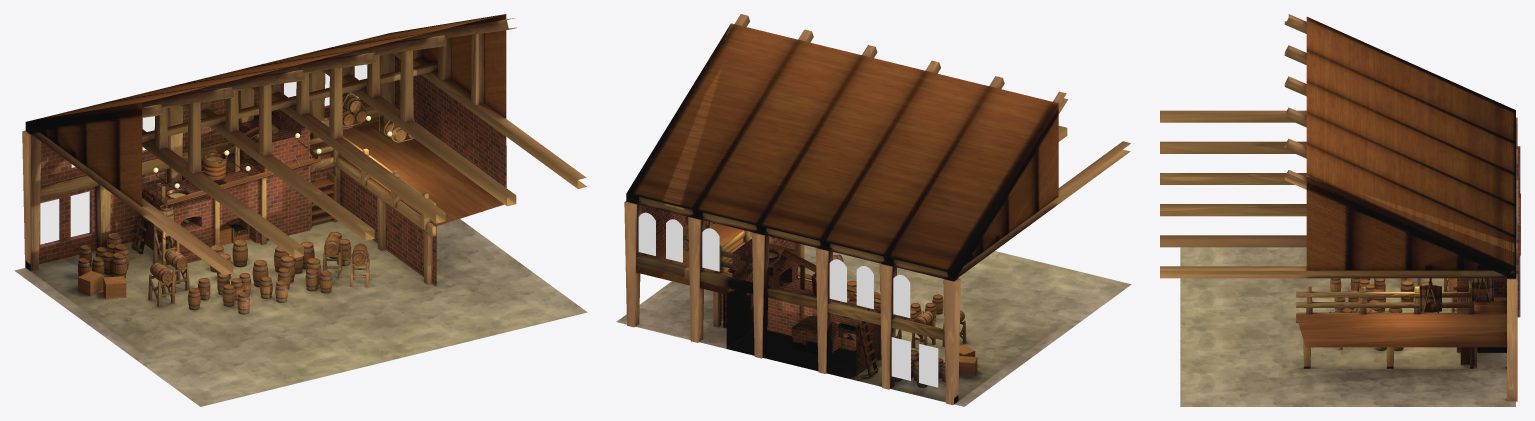
Rendered from Structure.glb.
3 views of the same model, side by side, from view 1: azimuth 30°, elevation 25°; view 2: azimuth 150°, elevation 25°; view 3: azimuth 270°, elevation 25° (orthographic). The views are drawn at different scales.
Parts seen in each view (by area): view 1: Wall-Floor.001, Wood Frame.001, Brick kiln.002, Barrel scratter.002, Extra Object.001, Barrel.004, Water trough.002, Hanging Barrel.002, Cooler Part.001, Barrel-shelf.001, Pot 2.002; view 2: Wall-Floor.001, Wood Frame.001, Brick kiln.002, Barrel scratter.002, Extra Object.001; view 3: Wall-Floor.001, Wood Frame.001, Barrel scratter.002, Hanging Barrel.002, Brick kiln.002.
Part boxes in pixels (x1,y1,x2,y2): Wall-Floor.001: [14, 14, 587, 406]; Wood Frame.001: [22, 18, 586, 284]; Brick kiln.002: [144, 109, 310, 262]; Barrel scratter.002: [78, 231, 351, 314]; Extra Object.001: [78, 113, 392, 298]; Barrel.004: [148, 234, 369, 306]; Water trough.002: [166, 149, 324, 245]; Hanging Barrel.002: [342, 66, 414, 142]; Cooler Part.001: [153, 183, 179, 268]; Barrel-shelf.001: [163, 249, 189, 293]; Pot 2.002: [183, 151, 227, 181]; Wall-Floor.001: [616, 23, 1131, 406]; Wood Frame.001: [624, 14, 1130, 405]; Brick kiln.002: [732, 238, 880, 375]; Barrel scratter.002: [847, 280, 945, 387]; Extra Object.001: [723, 294, 977, 377]; Wall-Floor.001: [1180, 17, 1520, 406]; Wood Frame.001: [1160, 14, 1517, 401]; Barrel scratter.002: [1330, 278, 1428, 350]; Hanging Barrel.002: [1419, 278, 1493, 313]; Brick kiln.002: [1454, 278, 1506, 352].
Size of the model in its own units: 22.24 by 13.99 by 19.91.
16 materials, 16 textured.
